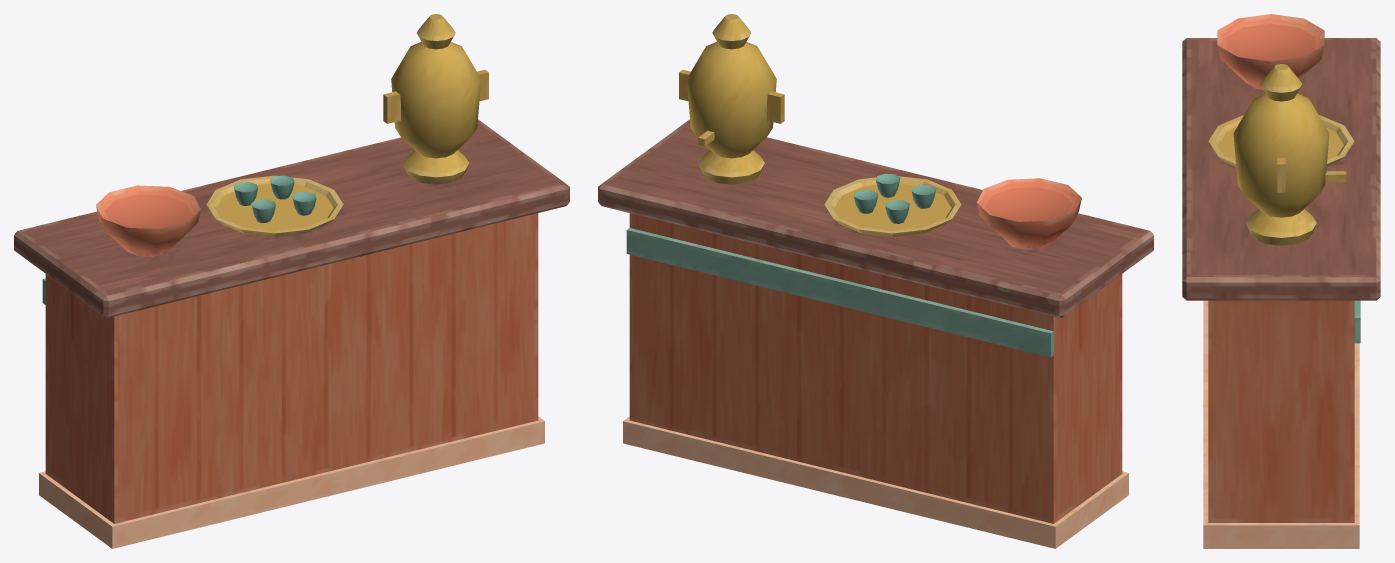
The model's file is counter.fbx.
3 views of the same model, side by side, from view 1: azimuth 30°, elevation 25°; view 2: azimuth 150°, elevation 25°; view 3: azimuth 270°, elevation 25° (orthographic). The views are drawn at different scales.
Visible parts, largest first — view 1: counter; view 2: counter; view 3: counter.
Boxes of the visible parts, x1,y1,x2,y2 form: counter: (14, 14, 569, 548); counter: (598, 14, 1153, 548); counter: (1182, 14, 1380, 548).
Bounding box in the file's own units: 5.5 × 4.7 × 1.9.
1 material, 1 textured.
